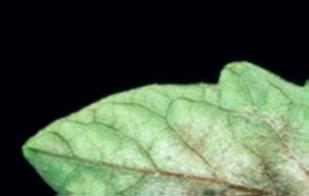Tomato leaf late blight: (17, 62, 309, 196)
